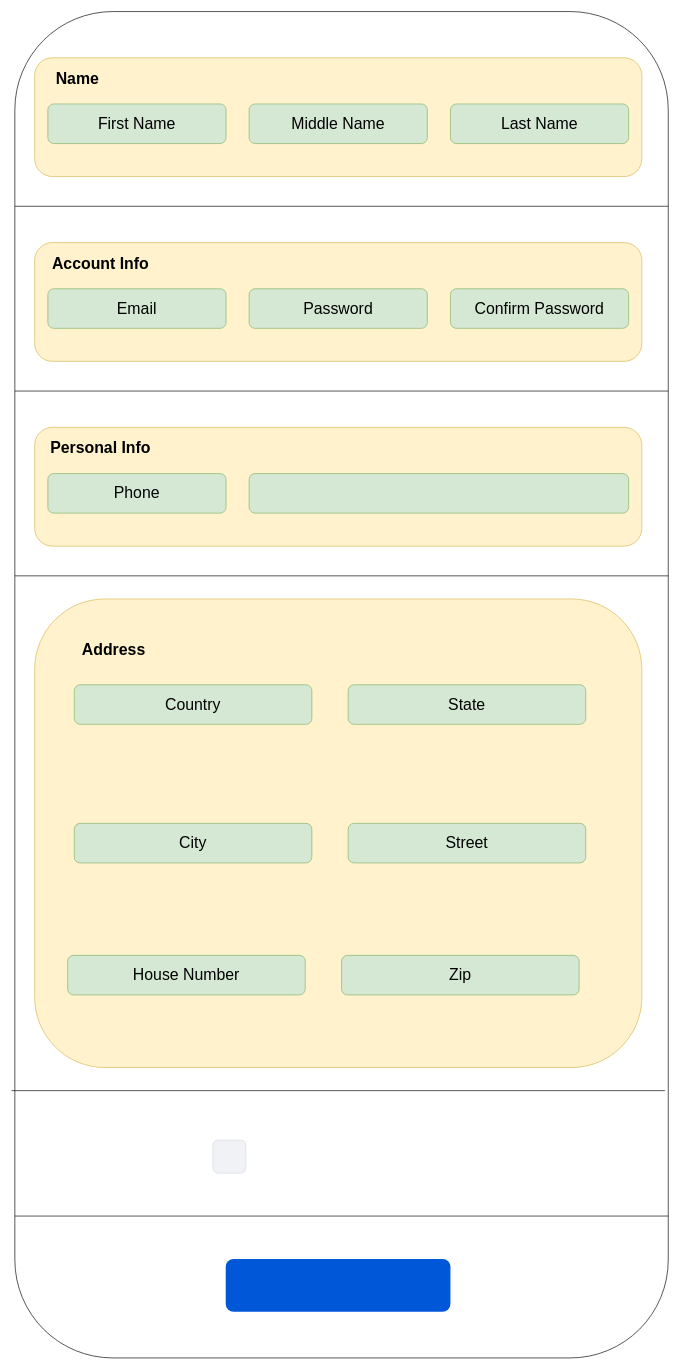
This 686x1370 diagram has some shape labels left out. Each missing label, with the centre of its shape:
"Image" goes at (x=438, y=493).
"Is Business?" goes at (x=229, y=1156).
"Register" goes at (x=337, y=1285).
